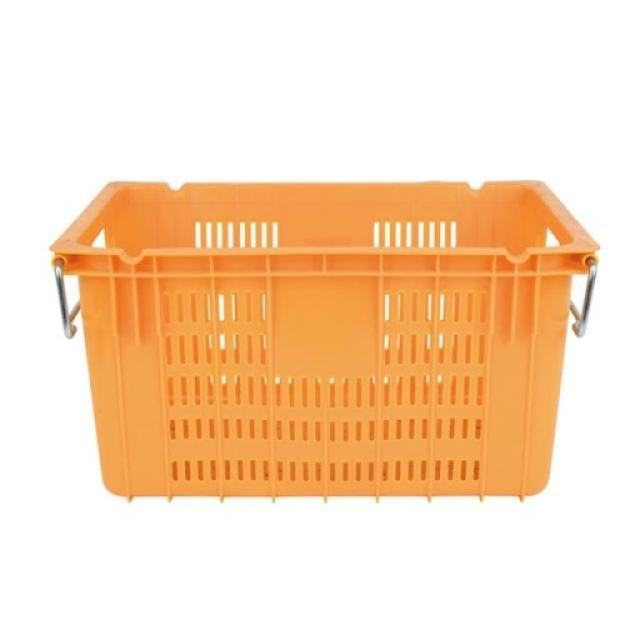basket: (51, 182, 600, 499)
